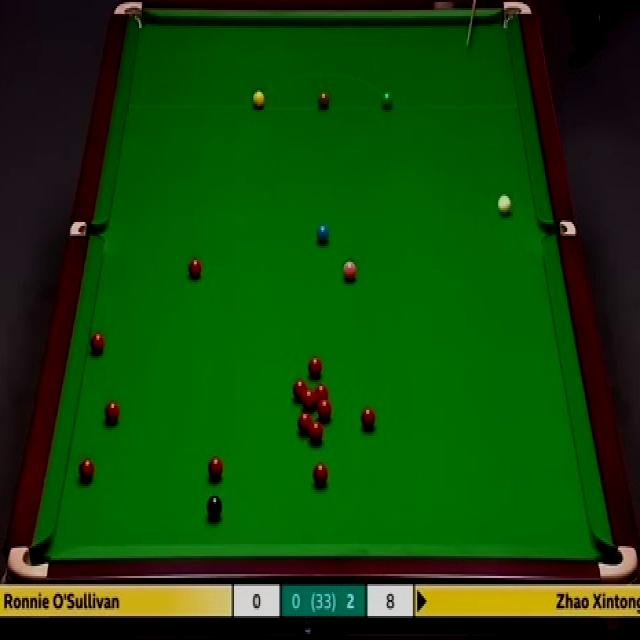black-ball: (207, 494, 224, 518)
blue-ball: (316, 222, 330, 247)
brown-ball: (317, 90, 330, 109)
green-ball: (381, 90, 394, 109)
pink-ball: (342, 262, 358, 284)
red-ball: (88, 331, 107, 358), (312, 462, 330, 488), (77, 458, 95, 484), (102, 398, 119, 423), (306, 356, 325, 378), (292, 376, 308, 402), (360, 406, 376, 431), (316, 408, 333, 431), (314, 384, 330, 408), (208, 456, 224, 480), (297, 410, 312, 434), (301, 390, 317, 410), (188, 260, 202, 278), (310, 399, 324, 416)
white-ball: (496, 193, 512, 215)
yellow-ball: (252, 90, 265, 109)
